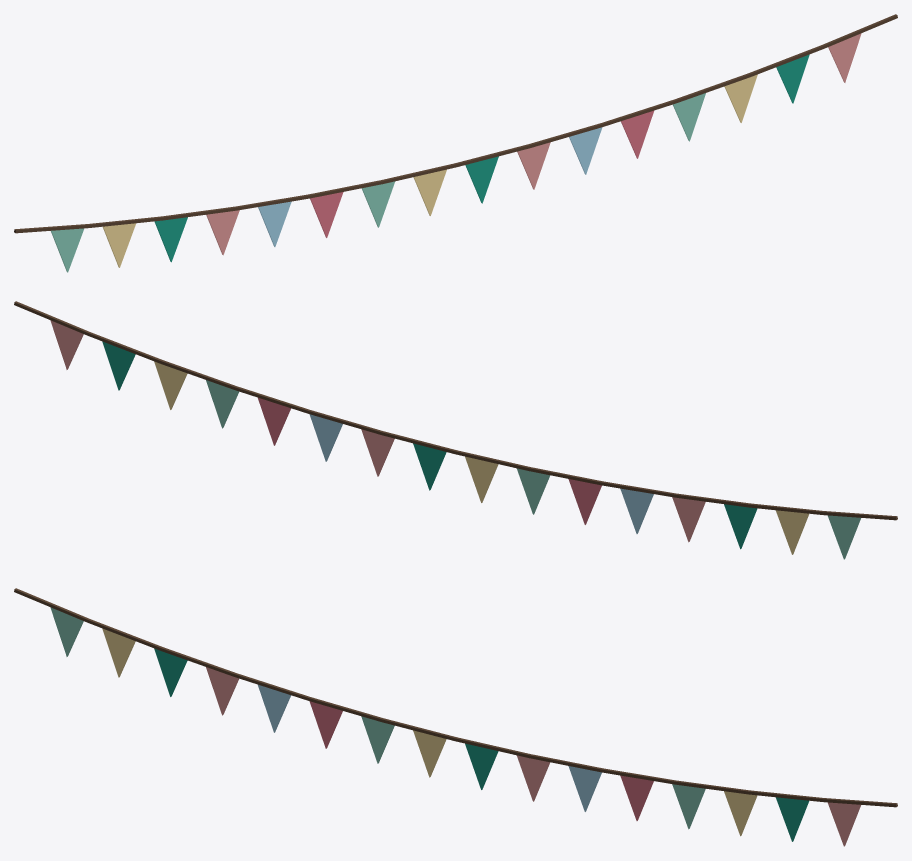
File: CatCafe_Square_BuntingSide.glb
3 renders of one model, top to bottom at view 1: azimuth 30°, elevation 25°; view 2: azimuth 150°, elevation 25°; view 3: azimuth 330°, elevation 25°, orthographic.
Parts seen in each view (by area): view 1: CatCafe_Square_BuntingSide, CatCafe_Square_BuntingSide_Flag15_Pennant, CatCafe_Square_BuntingSide_Flag16_Pennant, CatCafe_Square_BuntingSide_Flag14_Pennant, CatCafe_Square_BuntingSide_Flag12_Pennant, CatCafe_Square_BuntingSide_Flag13_Pennant, CatCafe_Square_BuntingSide_Flag08_Pennant, CatCafe_Square_BuntingSide_Flag09_Pennant, CatCafe_Square_BuntingSide_Flag03_Pennant, CatCafe_Square_BuntingSide_Flag10_Pennant, CatCafe_Square_BuntingSide_Flag05_Pennant, CatCafe_Square_BuntingSide_Flag06_Pennant (+5 smaller); view 2: CatCafe_Square_BuntingSide, CatCafe_Square_BuntingSide_Flag15_Pennant, CatCafe_Square_BuntingSide_Flag16_Pennant, CatCafe_Square_BuntingSide_Flag14_Pennant, CatCafe_Square_BuntingSide_Flag12_Pennant, CatCafe_Square_BuntingSide_Flag13_Pennant, CatCafe_Square_BuntingSide_Flag08_Pennant, CatCafe_Square_BuntingSide_Flag09_Pennant, CatCafe_Square_BuntingSide_Flag03_Pennant, CatCafe_Square_BuntingSide_Flag10_Pennant, CatCafe_Square_BuntingSide_Flag05_Pennant, CatCafe_Square_BuntingSide_Flag06_Pennant (+5 smaller); view 3: CatCafe_Square_BuntingSide, CatCafe_Square_BuntingSide_Flag02_Pennant, CatCafe_Square_BuntingSide_Flag01_Pennant, CatCafe_Square_BuntingSide_Flag03_Pennant, CatCafe_Square_BuntingSide_Flag04_Pennant, CatCafe_Square_BuntingSide_Flag05_Pennant, CatCafe_Square_BuntingSide_Flag09_Pennant, CatCafe_Square_BuntingSide_Flag08_Pennant, CatCafe_Square_BuntingSide_Flag07_Pennant, CatCafe_Square_BuntingSide_Flag14_Pennant, CatCafe_Square_BuntingSide_Flag06_Pennant, CatCafe_Square_BuntingSide_Flag11_Pennant (+5 smaller).
Part boxes in pixels (bbox=[...]): CatCafe_Square_BuntingSide: bbox=[14, 14, 897, 233]; CatCafe_Square_BuntingSide_Flag15_Pennant: bbox=[102, 223, 135, 267]; CatCafe_Square_BuntingSide_Flag16_Pennant: bbox=[51, 228, 84, 272]; CatCafe_Square_BuntingSide_Flag14_Pennant: bbox=[154, 217, 187, 262]; CatCafe_Square_BuntingSide_Flag12_Pennant: bbox=[258, 201, 291, 246]; CatCafe_Square_BuntingSide_Flag13_Pennant: bbox=[206, 210, 239, 255]; CatCafe_Square_BuntingSide_Flag08_Pennant: bbox=[465, 156, 498, 203]; CatCafe_Square_BuntingSide_Flag09_Pennant: bbox=[413, 169, 446, 215]; CatCafe_Square_BuntingSide_Flag03_Pennant: bbox=[724, 74, 757, 122]; CatCafe_Square_BuntingSide_Flag10_Pennant: bbox=[361, 181, 395, 227]; CatCafe_Square_BuntingSide_Flag05_Pennant: bbox=[621, 110, 653, 158]; CatCafe_Square_BuntingSide_Flag06_Pennant: bbox=[569, 127, 602, 174]; CatCafe_Square_BuntingSide: bbox=[14, 301, 897, 520]; CatCafe_Square_BuntingSide_Flag15_Pennant: bbox=[776, 510, 809, 554]; CatCafe_Square_BuntingSide_Flag16_Pennant: bbox=[827, 515, 860, 559]; CatCafe_Square_BuntingSide_Flag14_Pennant: bbox=[724, 504, 757, 549]; CatCafe_Square_BuntingSide_Flag12_Pennant: bbox=[620, 488, 653, 533]; CatCafe_Square_BuntingSide_Flag13_Pennant: bbox=[672, 497, 705, 542]; CatCafe_Square_BuntingSide_Flag08_Pennant: bbox=[413, 443, 446, 490]; CatCafe_Square_BuntingSide_Flag09_Pennant: bbox=[465, 456, 498, 502]; CatCafe_Square_BuntingSide_Flag03_Pennant: bbox=[154, 361, 187, 409]; CatCafe_Square_BuntingSide_Flag10_Pennant: bbox=[516, 468, 550, 514]; CatCafe_Square_BuntingSide_Flag05_Pennant: bbox=[258, 397, 290, 445]; CatCafe_Square_BuntingSide_Flag06_Pennant: bbox=[309, 414, 342, 461]; CatCafe_Square_BuntingSide: bbox=[14, 588, 897, 807]; CatCafe_Square_BuntingSide_Flag02_Pennant: bbox=[776, 797, 809, 841]; CatCafe_Square_BuntingSide_Flag01_Pennant: bbox=[827, 802, 860, 846]; CatCafe_Square_BuntingSide_Flag03_Pennant: bbox=[724, 791, 757, 836]; CatCafe_Square_BuntingSide_Flag04_Pennant: bbox=[672, 784, 705, 829]; CatCafe_Square_BuntingSide_Flag05_Pennant: bbox=[620, 775, 653, 820]; CatCafe_Square_BuntingSide_Flag09_Pennant: bbox=[413, 730, 446, 777]; CatCafe_Square_BuntingSide_Flag08_Pennant: bbox=[465, 743, 498, 789]; CatCafe_Square_BuntingSide_Flag07_Pennant: bbox=[516, 755, 550, 801]; CatCafe_Square_BuntingSide_Flag14_Pennant: bbox=[154, 648, 187, 696]; CatCafe_Square_BuntingSide_Flag06_Pennant: bbox=[568, 766, 601, 811]; CatCafe_Square_BuntingSide_Flag11_Pennant: bbox=[309, 701, 342, 748].
Size of the model in its own units: 22.31 by 2.11 by 0.07.
Materials: 1 (1 with a texture image).
